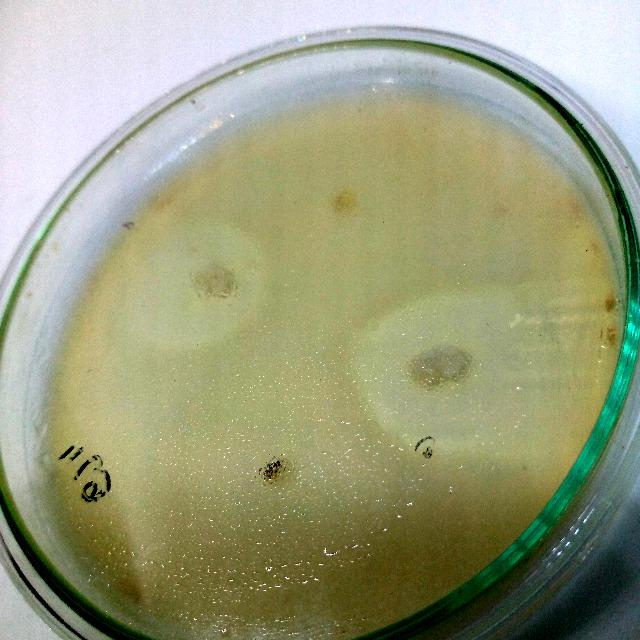colony: (408, 333, 478, 403), (190, 256, 242, 312), (252, 444, 290, 492), (323, 183, 362, 221)
